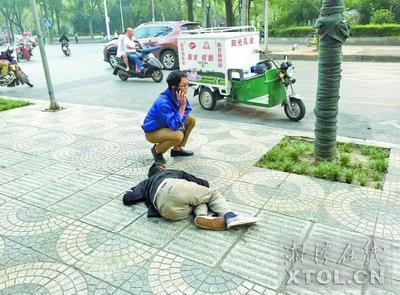Fall-Detected: (110, 156, 262, 234)
